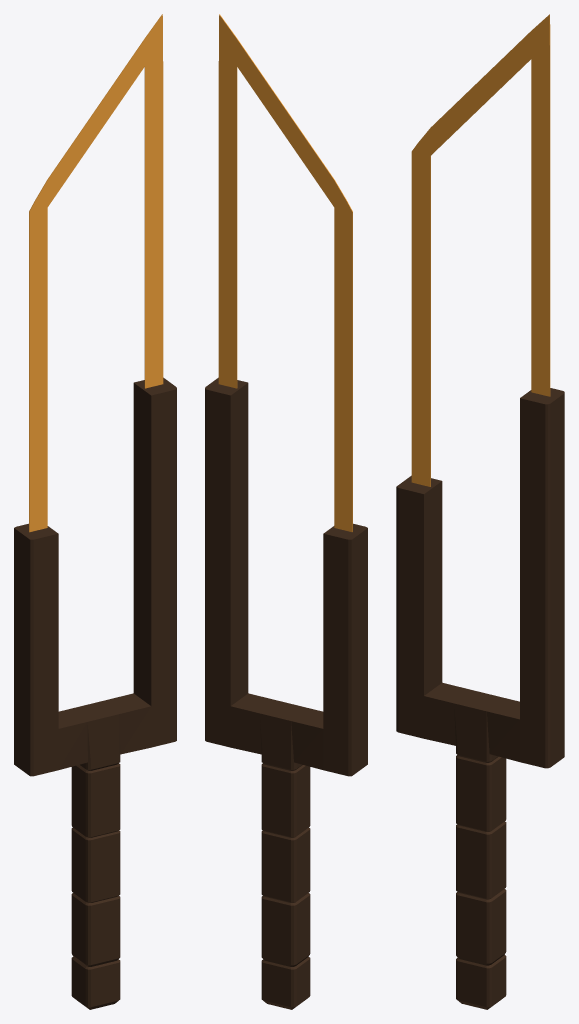
The model's file is Cyber_sword.glb.
3 views of the same model, side by side, from view 1: azimuth 30°, elevation 25°; view 2: azimuth 150°, elevation 25°; view 3: azimuth 330°, elevation 25° (orthographic). The views are drawn at different scales.
Visible parts, largest first — view 1: Handle, Blade; view 2: Handle, Blade; view 3: Handle, Blade.
Boxes of the visible parts, bbox=[...] form: Handle: bbox=[14, 377, 176, 1009]; Blade: bbox=[29, 14, 163, 532]; Handle: bbox=[205, 377, 367, 1009]; Blade: bbox=[218, 14, 352, 532]; Handle: bbox=[396, 388, 564, 1009]; Blade: bbox=[411, 14, 550, 486].
Bounding box in the file's own units: 0.4266 × 2.68 × 0.0882.
